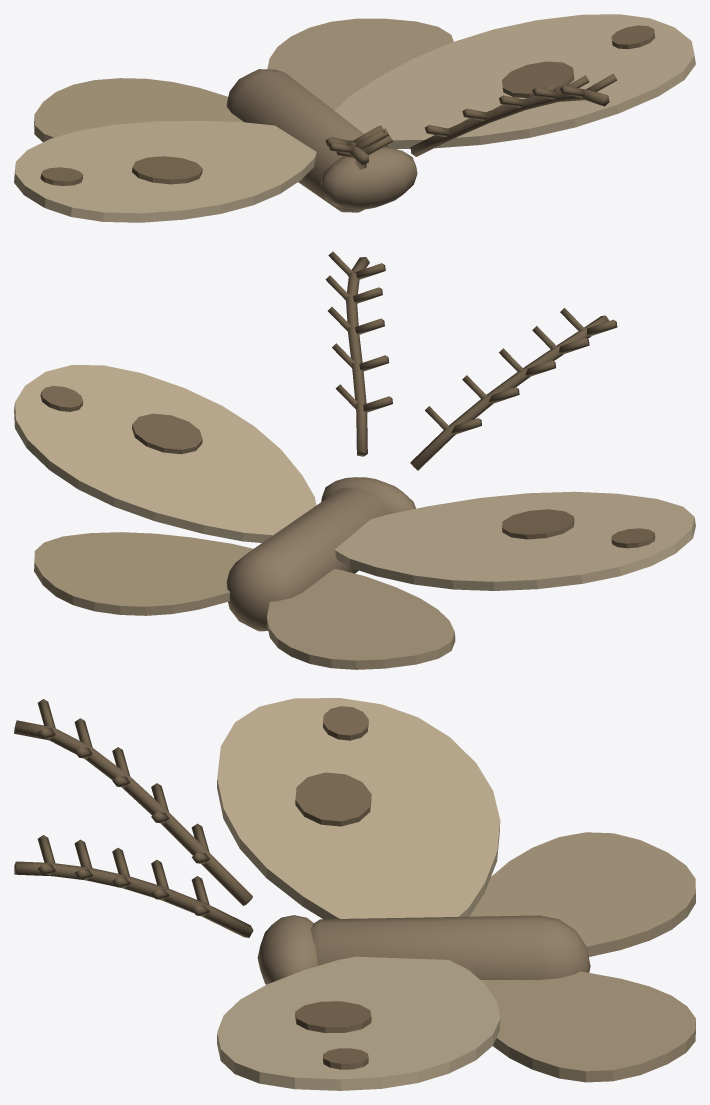
Rendered from bug-moth.glb.
The picture shows the model from 3 angles, top to bottom: view 1: azimuth 30°, elevation 25°; view 2: azimuth 150°, elevation 25°; view 3: azimuth 270°, elevation 25°; orthographic projection. The views are drawn at different scales.
Parts seen in each view (by area): view 1: bug; view 2: bug; view 3: bug.
Boxes of the visible parts, x1,y1,x2,y2 form: bug: (14, 14, 695, 222); bug: (14, 251, 695, 669); bug: (14, 698, 695, 1090).
Size of the model in its own units: 0.2986 by 0.0841 by 0.2249.
